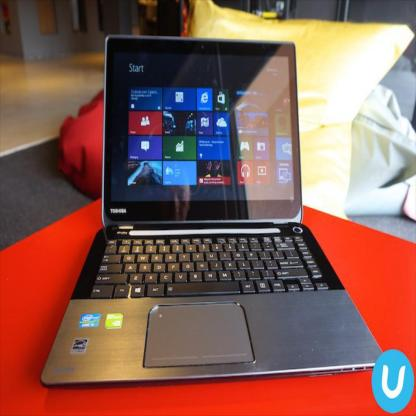board: (38, 35, 383, 416)
